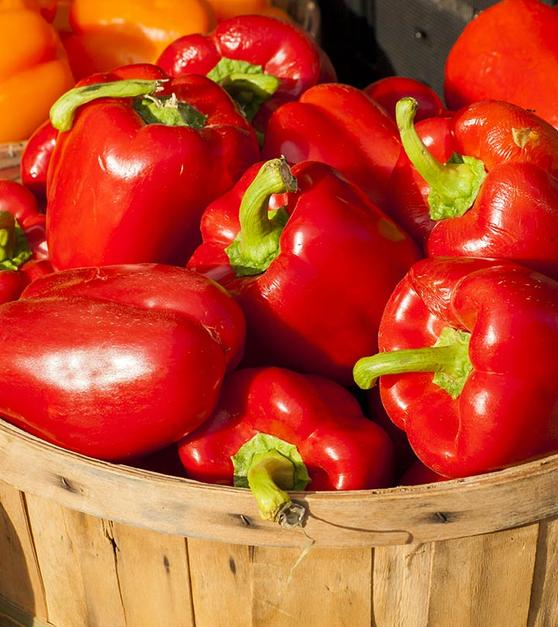pepper: (199, 161, 423, 380)
